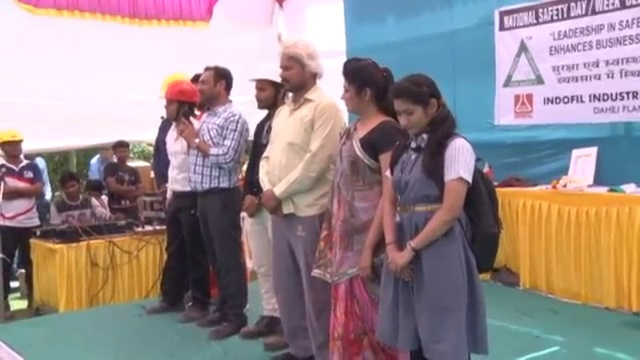helmet: (154, 77, 201, 108), (244, 54, 283, 87), (0, 128, 26, 146)
helmet_off: (384, 71, 449, 145), (336, 58, 393, 120), (272, 43, 323, 92), (192, 65, 234, 112), (58, 170, 81, 202), (108, 143, 128, 171), (85, 179, 106, 203), (99, 147, 113, 164)
helmet_on: (153, 78, 201, 129), (246, 59, 283, 112), (0, 127, 27, 168)
person: (377, 60, 506, 360), (255, 38, 350, 359), (330, 60, 412, 358), (183, 67, 251, 339), (238, 53, 286, 352), (144, 78, 201, 323), (0, 124, 45, 319), (52, 171, 125, 233), (103, 143, 144, 214), (89, 144, 114, 180)
